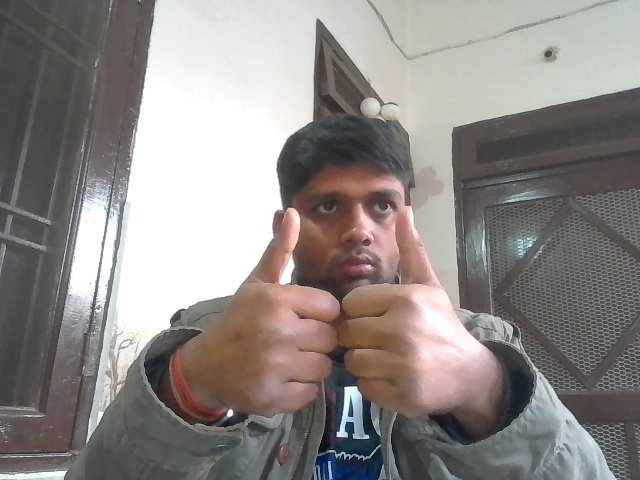Excellent: (193, 211, 470, 412)
